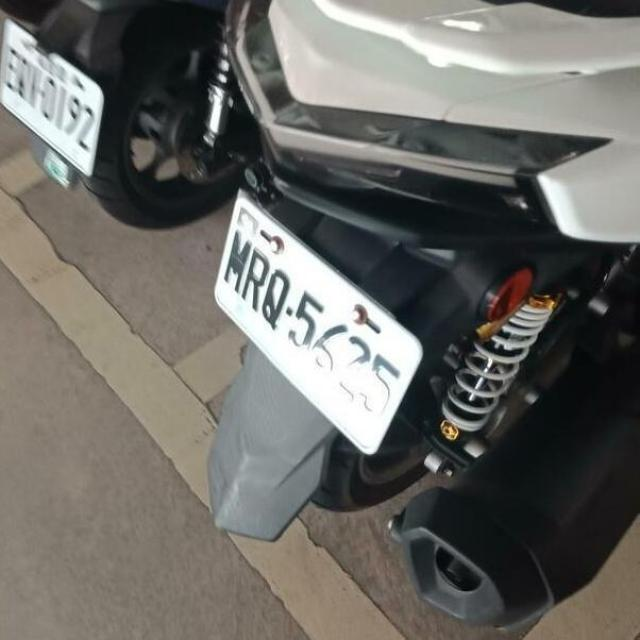W: (212, 188, 424, 458), (0, 15, 106, 182)
